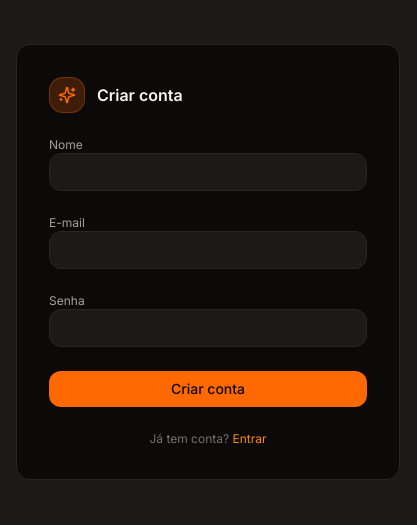
Scenario: SignupPage › renders registration-disabled message on 403
Type "B" into the field labelled "Nome" at (208, 172), box x1=49 y1=153 x2=367 y2=191
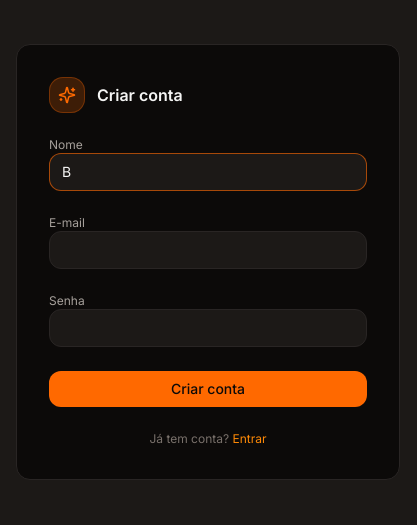
Type "b@b.c" into the field labelled "E-mail" at (208, 250), box x1=49 y1=231 x2=367 y2=269
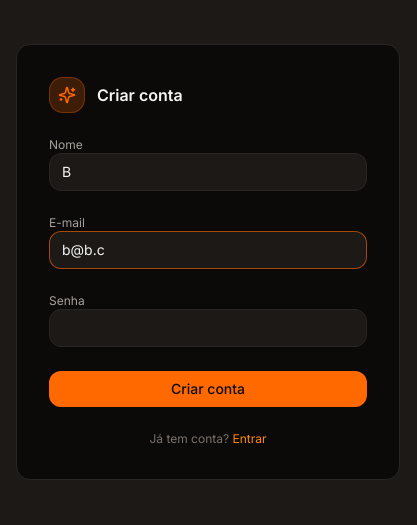
Type "p" into the password field labelled "Senha" at (208, 328), box x1=49 y1=309 x2=367 y2=347
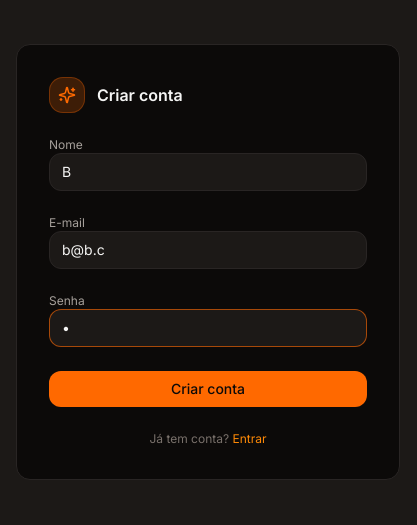
Click the button "Criar conta" at (208, 389), box x1=49 y1=371 x2=367 y2=407
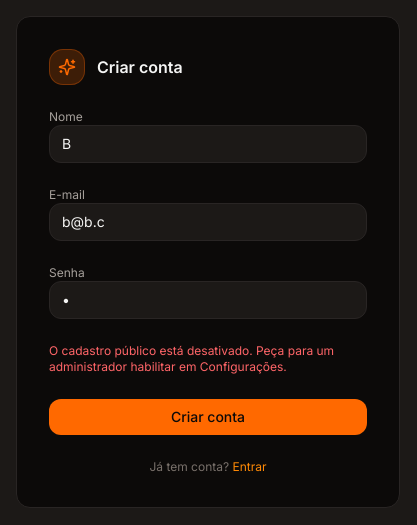
Now the message is shown, box x1=49 y1=343 x2=367 y2=375
Now the message shows "cadastro público está desativado", box x1=49 y1=343 x2=334 y2=374
